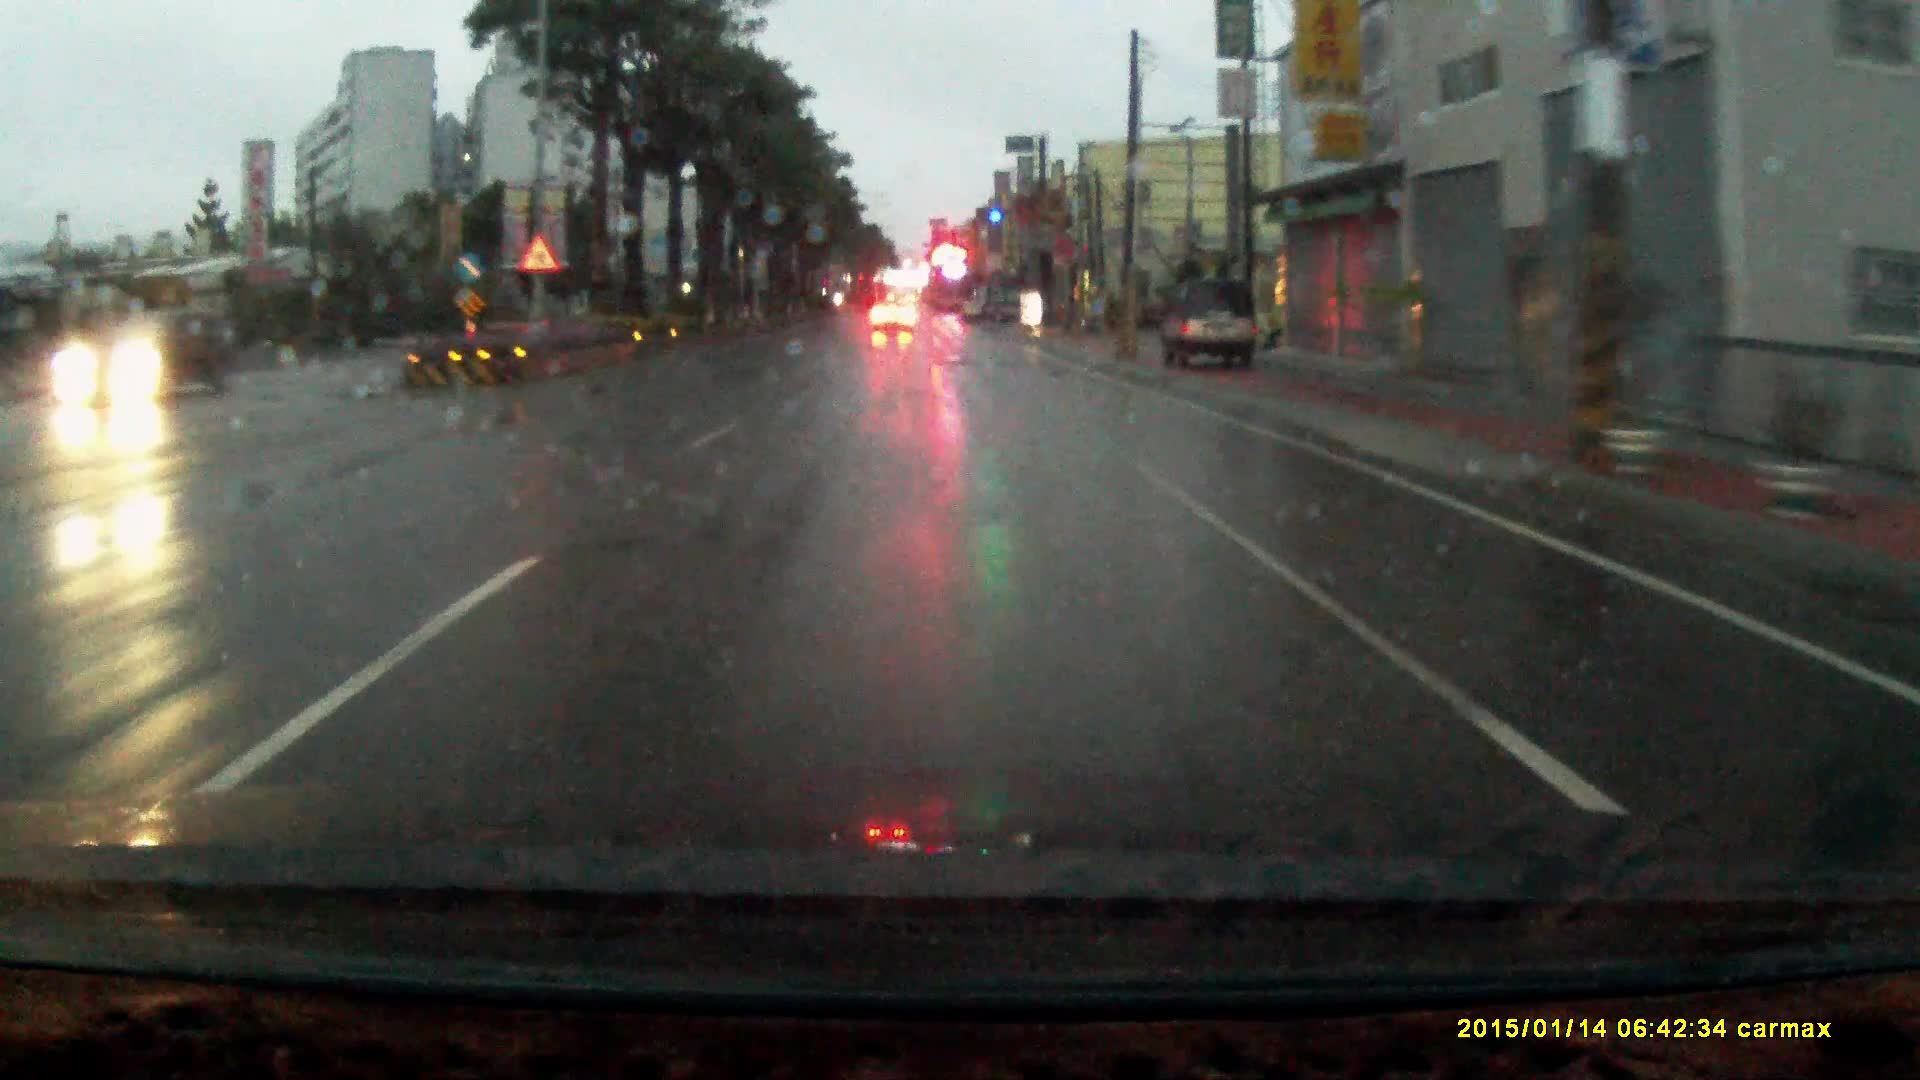vehicle: (47, 301, 236, 407), (1158, 264, 1265, 363), (872, 301, 915, 338)
